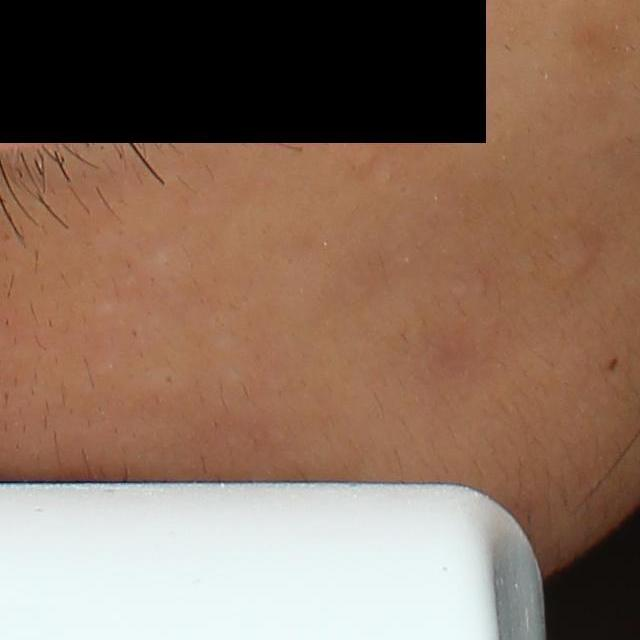hypertrophic_scar: (94, 303, 123, 319)
nevus: (605, 355, 620, 372)
